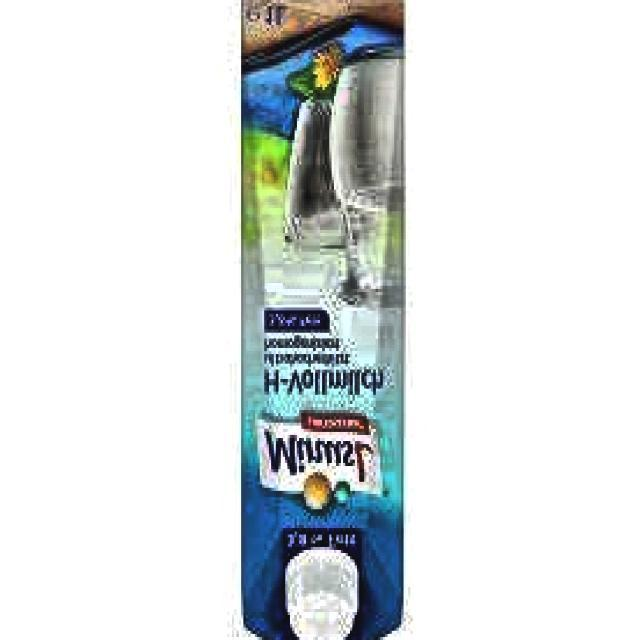cardboard: (239, 0, 406, 640)
